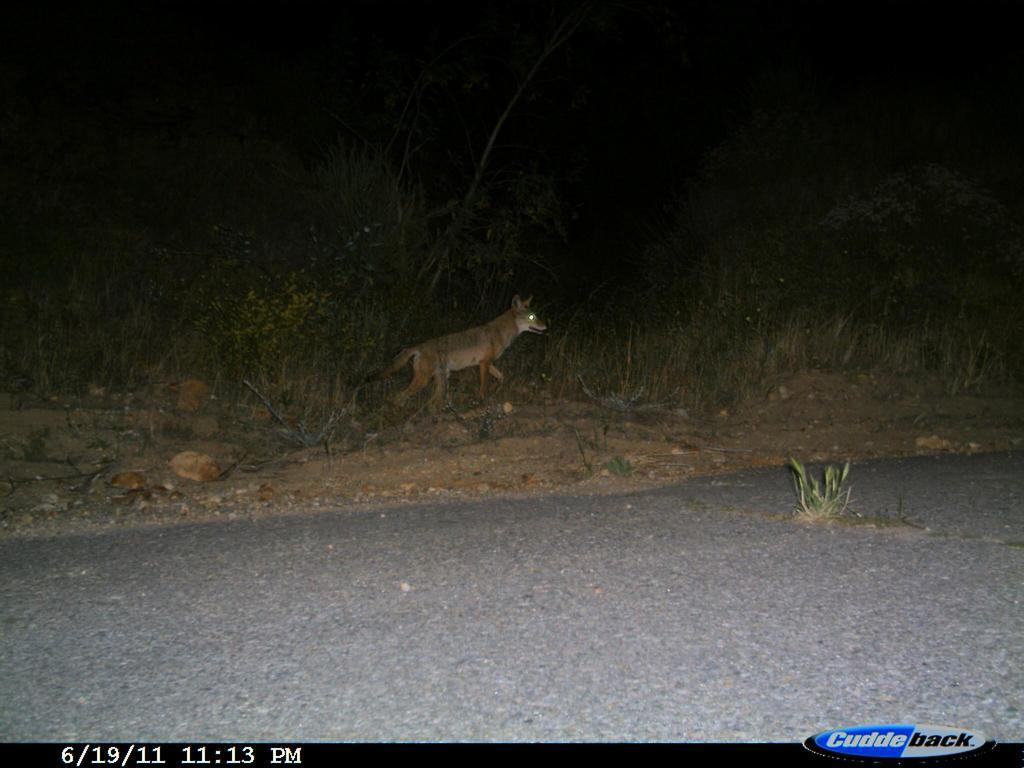coyote: (346, 286, 557, 423)
